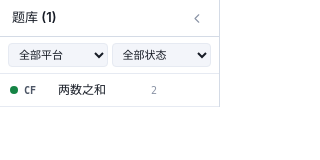
Test: 题库侧栏的三态 › 筛选无结果与真的没有记录说不同的话
Expected: the text "两数之和" is shown, [58, 82, 106, 97]
Select "AcWing" in the 1st dropdown at point(58, 55), box [8, 43, 108, 67]
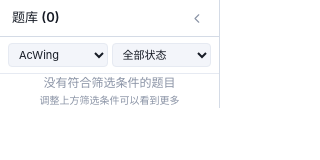
Expected: the text "没有符合筛选条件的题目" is shown, [44, 74, 176, 92]
